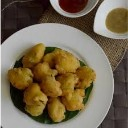bonda: (62, 89, 88, 112), (54, 50, 81, 72), (7, 67, 33, 88), (40, 74, 53, 112), (23, 43, 45, 63)
